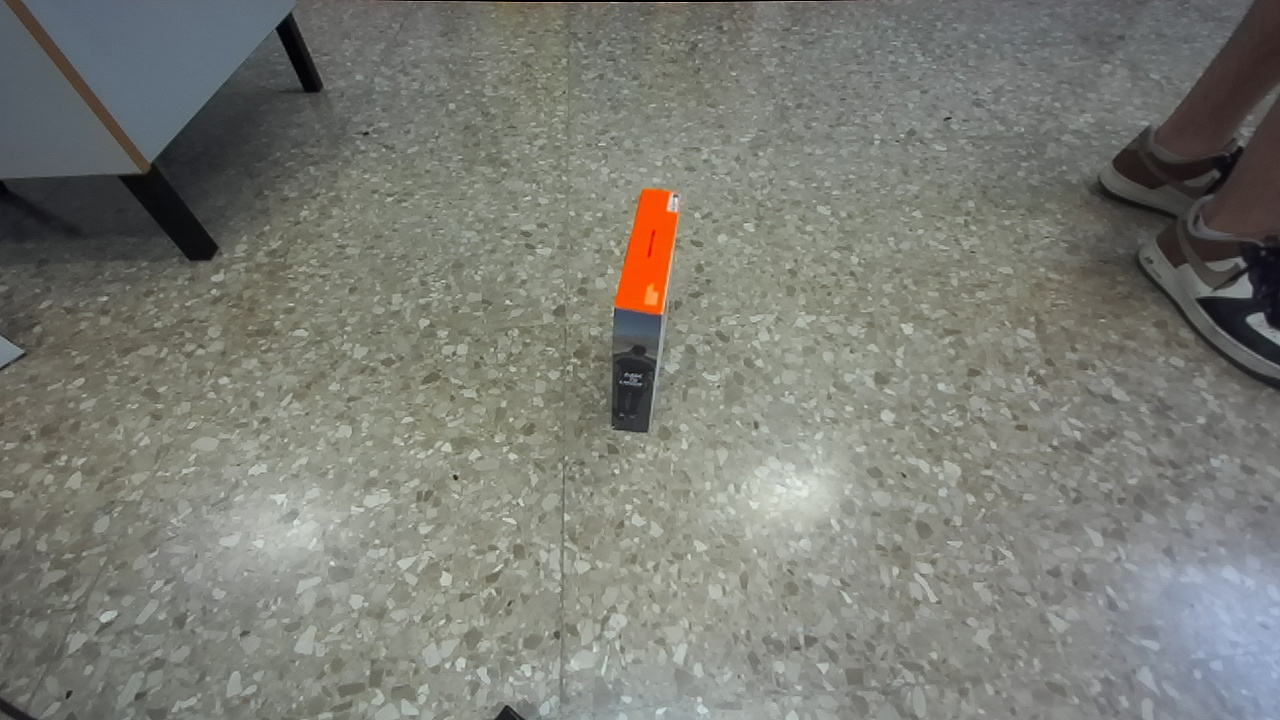caja_chasis: (608, 188, 680, 431)
